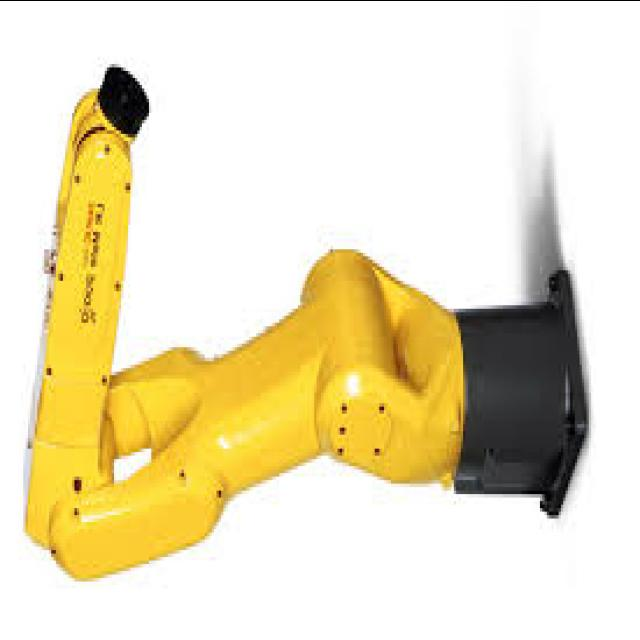Robotic-arm: (16, 46, 592, 586)
